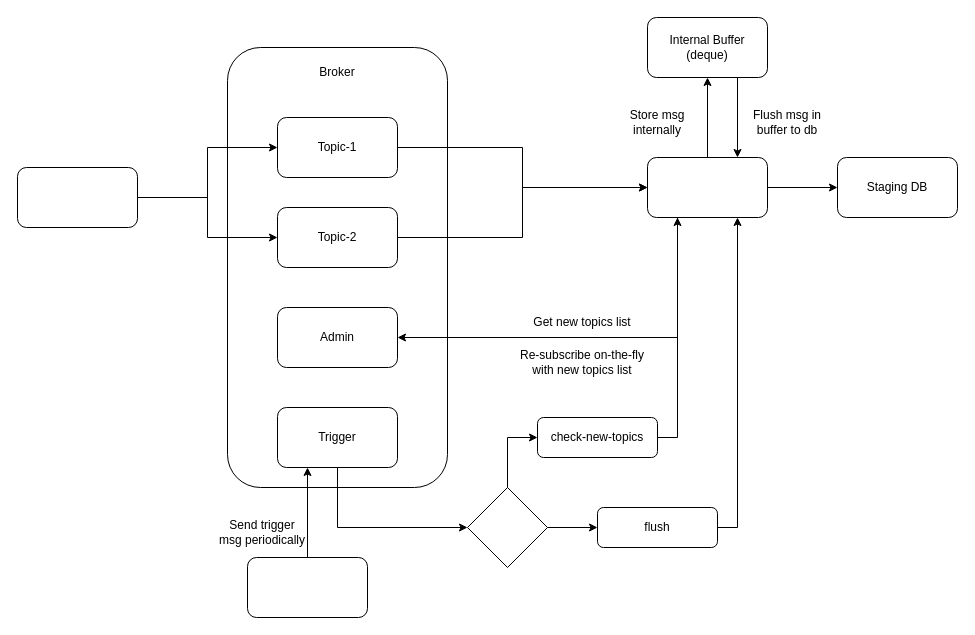
This 975x635 diagram has some shape labels left out. Here are the shapes that lost their labels. From the top down, the box of each, then its label:
(16, 166, 138, 228): Paytm Source
(646, 156, 768, 218): Consumer
(466, 486, 548, 568): Msg type
(246, 556, 368, 618): Cron Process
